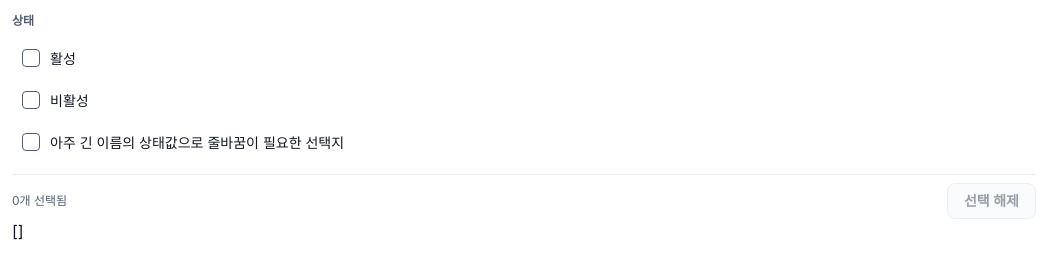
Test: enum 목록 행 (§7.2) › 하단 구분선 아래: 왼쪽 "N개 선택됨" + 오른쪽 "선택 해제" — 해제하면 0개·비활성
Expected: the text "0개 선택됨" is shown, [12,192,67,210]
Expected: the button "선택 해제" is disabled, [947,183,1036,219]
Click the text "활성": (49, 58) [22,49,76,67]
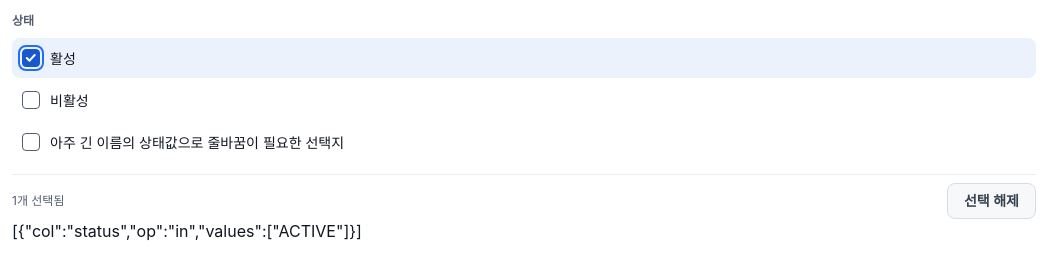
Click the text "비활성": (55, 100) [22,91,89,109]
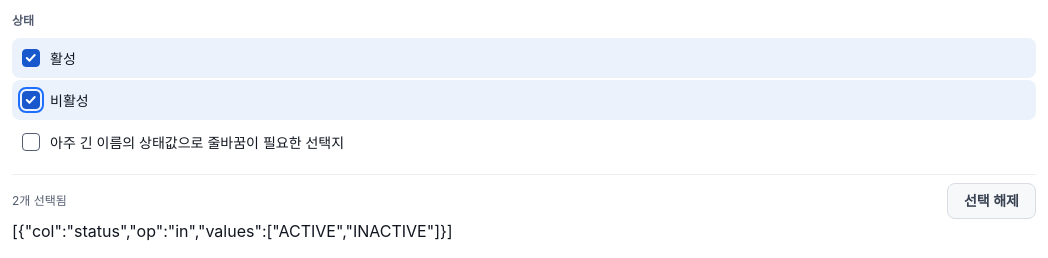
Now the button "선택 해제" is enabled
Now the text "2개 선택됨" is shown, box [12,192,67,210]
Click the button "선택 해제": (991, 201) [947,183,1036,219]
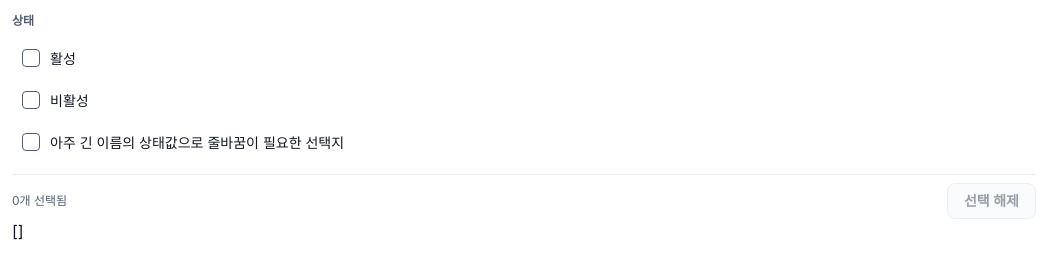
Now the checkbox labelled "활성" is not checked, box [22,49,40,67]
Now the text "0개 선택됨" is shown, box [12,192,67,210]
Now the text with test id "filters" reads "[]", box [12,221,24,241]
